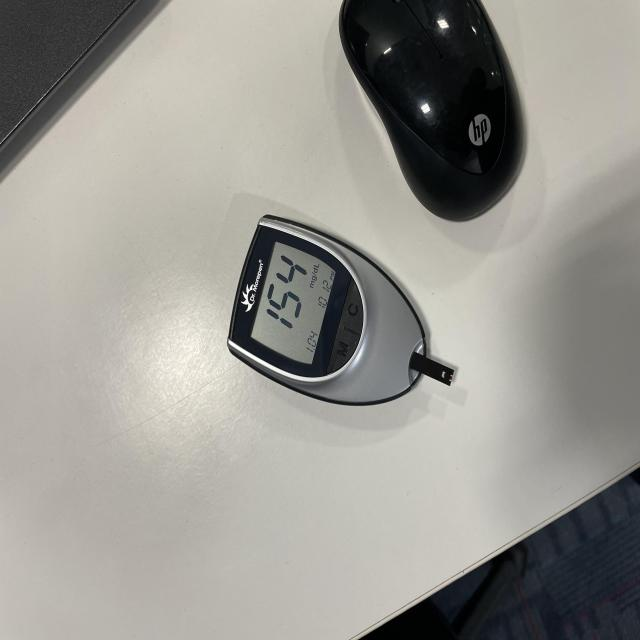gluco: (226, 215, 455, 408)
